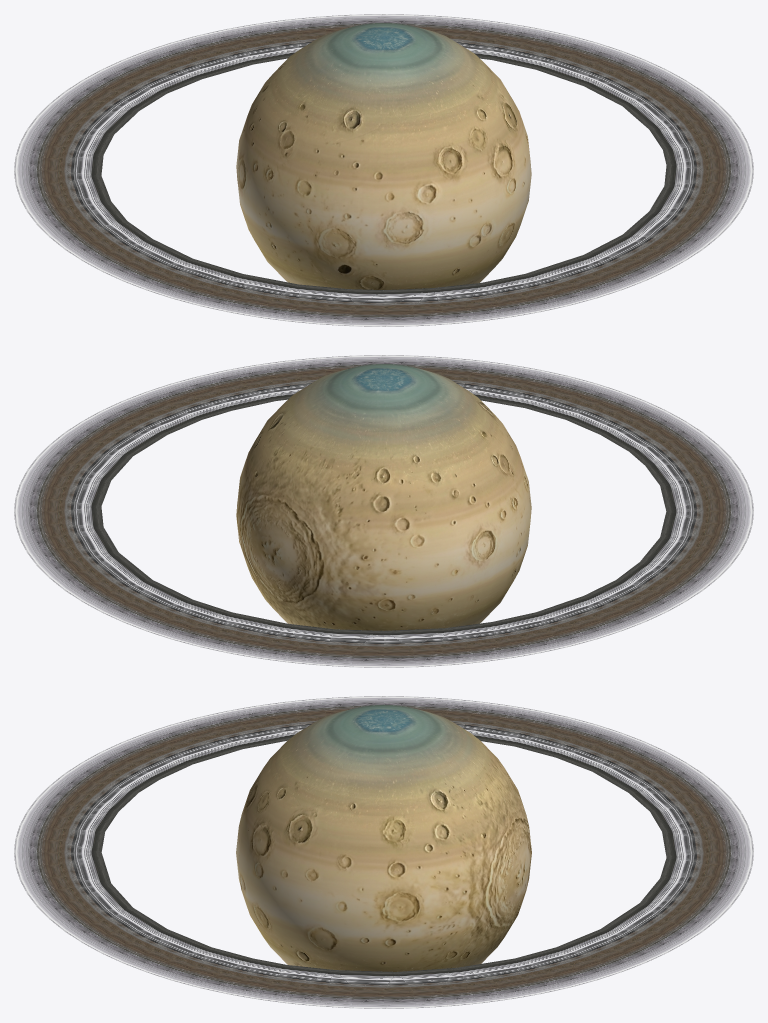
File: Saturn.glb
3 renders of one model, top to bottom at view 1: azimuth 30°, elevation 25°; view 2: azimuth 150°, elevation 25°; view 3: azimuth 270°, elevation 25°, orthographic.
Visible parts, largest first — view 1: Circle, Mars; view 2: Circle, Mars; view 3: Circle, Mars.
Boxes of the visible parts, left/top/right/bottom form: Circle: left=14, top=14, right=753, bottom=326; Mars: left=236, top=23, right=531, bottom=289; Circle: left=14, top=355, right=753, bottom=667; Mars: left=236, top=364, right=531, bottom=630; Circle: left=14, top=696, right=753, bottom=1008; Mars: left=236, top=704, right=531, bottom=971.
Bounding box in the file's own units: 5 × 2.01 × 5.
3 materials, 2 textured.
